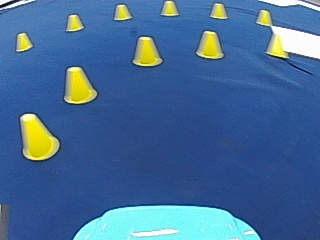cone: (17, 113, 59, 160), (63, 65, 97, 104), (131, 36, 162, 66), (195, 30, 223, 58), (265, 32, 284, 56), (66, 13, 83, 32), (15, 32, 32, 51), (210, 2, 227, 19), (113, 4, 131, 20), (161, 0, 178, 16), (256, 9, 271, 26)
